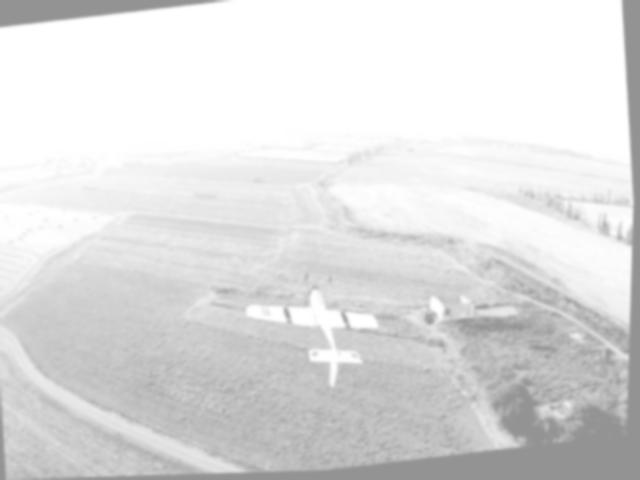hedef: (245, 269, 411, 396)
